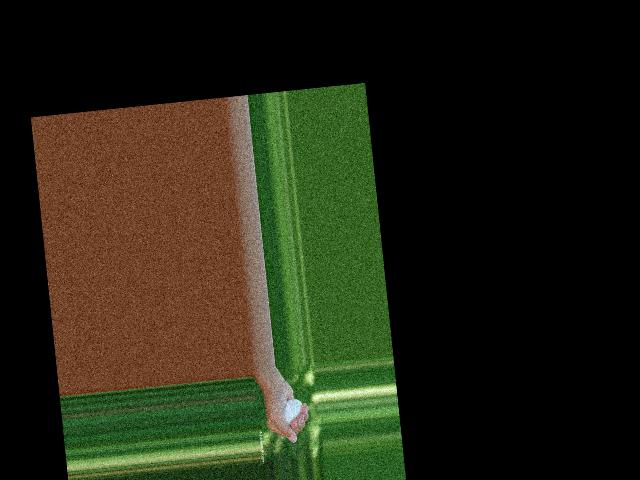egg: (282, 398, 304, 425)
